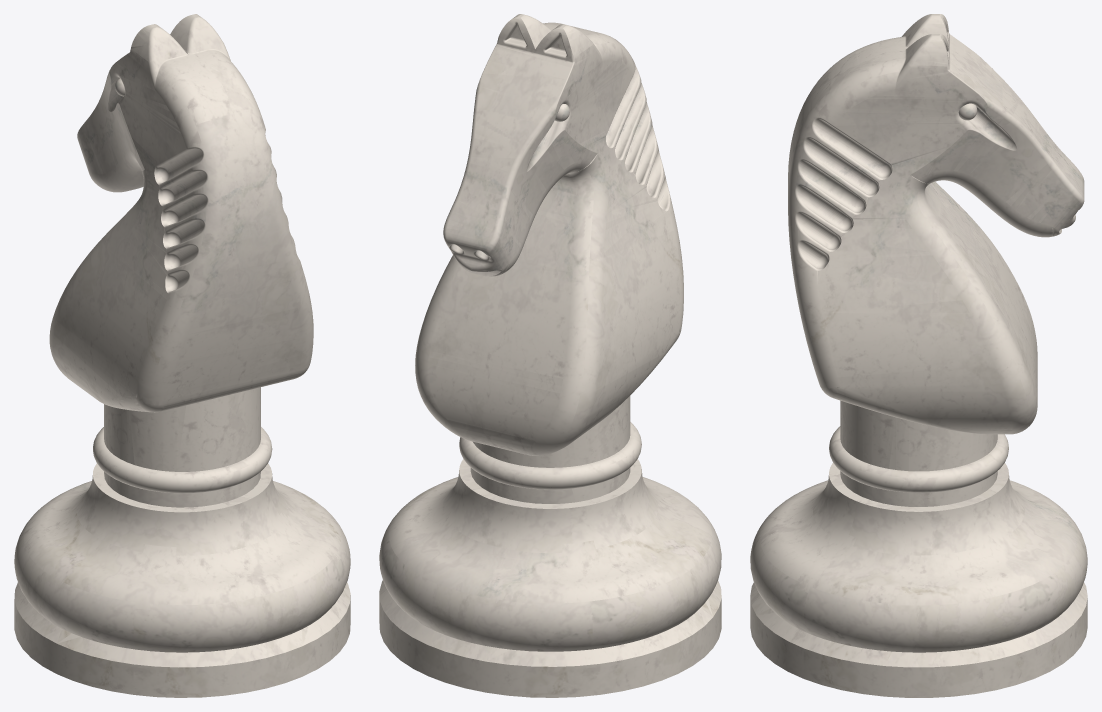
Rendered from White-Knight.glb.
3 renders of one model, left to right at view 1: azimuth 30°, elevation 25°; view 2: azimuth 150°, elevation 25°; view 3: azimuth 270°, elevation 25°, orthographic.
Parts seen in each view (by area): view 1: ASSET_Joined; view 2: ASSET_Joined; view 3: ASSET_Joined.
Part boxes in pixels (x1,y1,x2,y2): ASSET_Joined: (14, 14, 350, 697); ASSET_Joined: (379, 14, 721, 697); ASSET_Joined: (750, 14, 1087, 697).
Bounding box in the file's own units: 30.49 × 60 × 30.51.
Materials: 1 (1 with a texture image).
